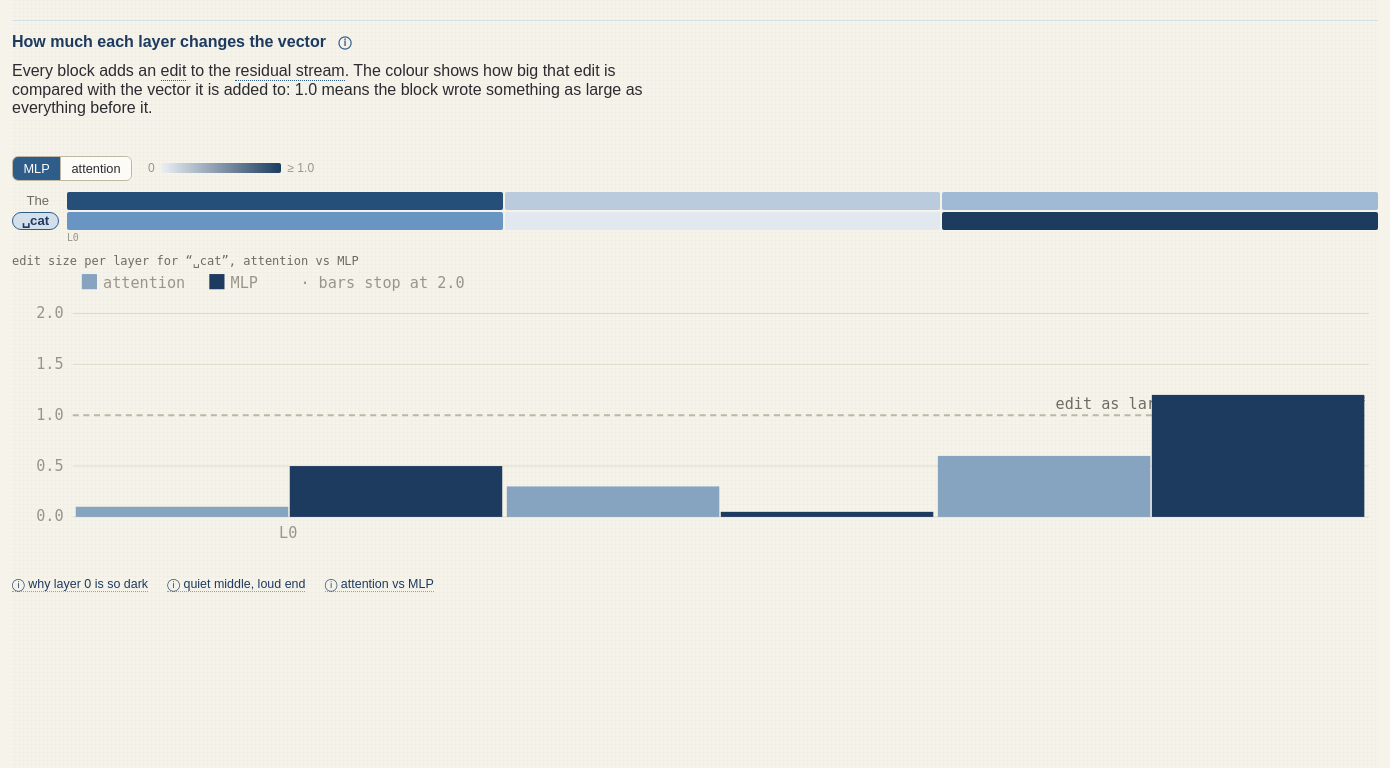
Test case: token chips select the token the bars show; the last token by default
This screenshot has width=1390, height=768.
expect the text with test id "edit-bars-label" shows "“␣cat”": met, box [12,254,359,268]
Click the button with test id "edit-row-label" showing "The".
click(38, 201)  # box [17,192,59,210]
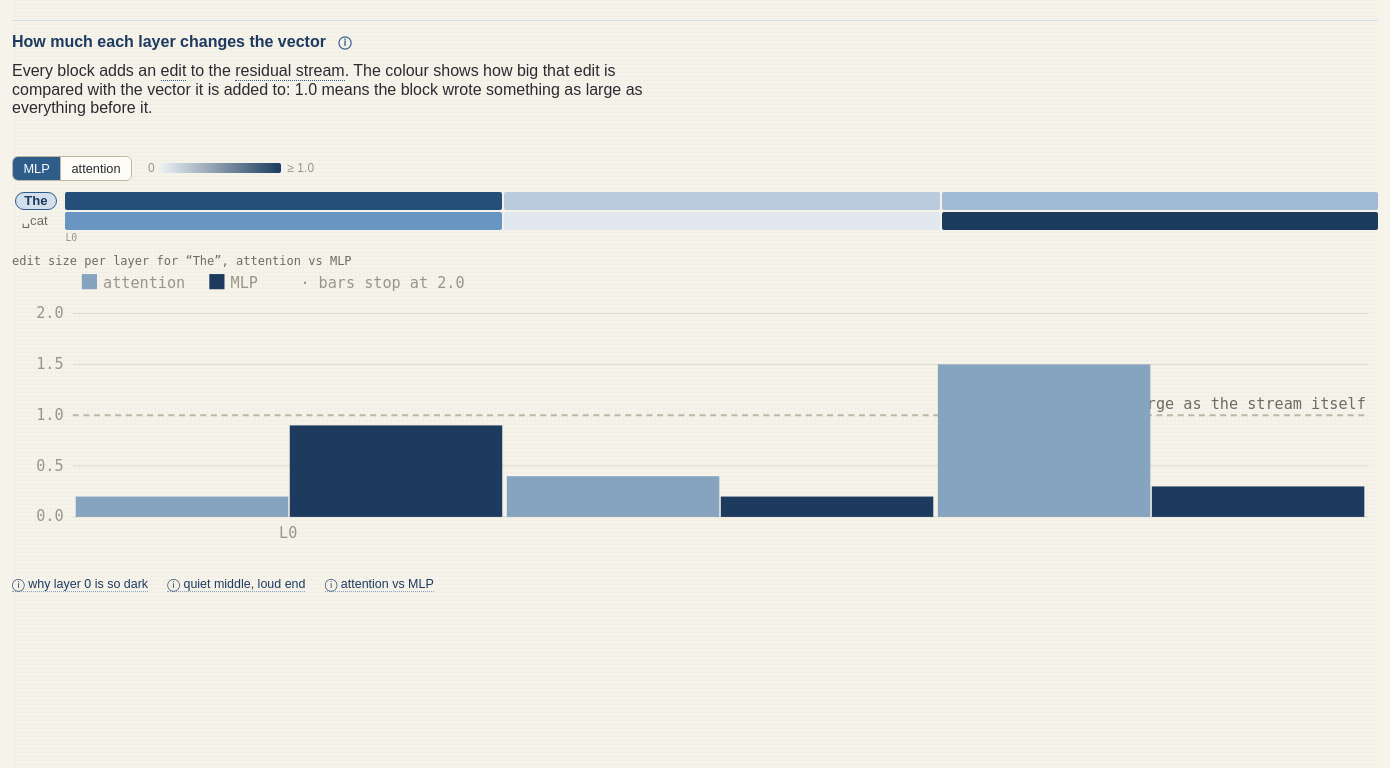
expect the text with test id "edit-bars-label" shows "“The”": met, box [12,254,352,268]
